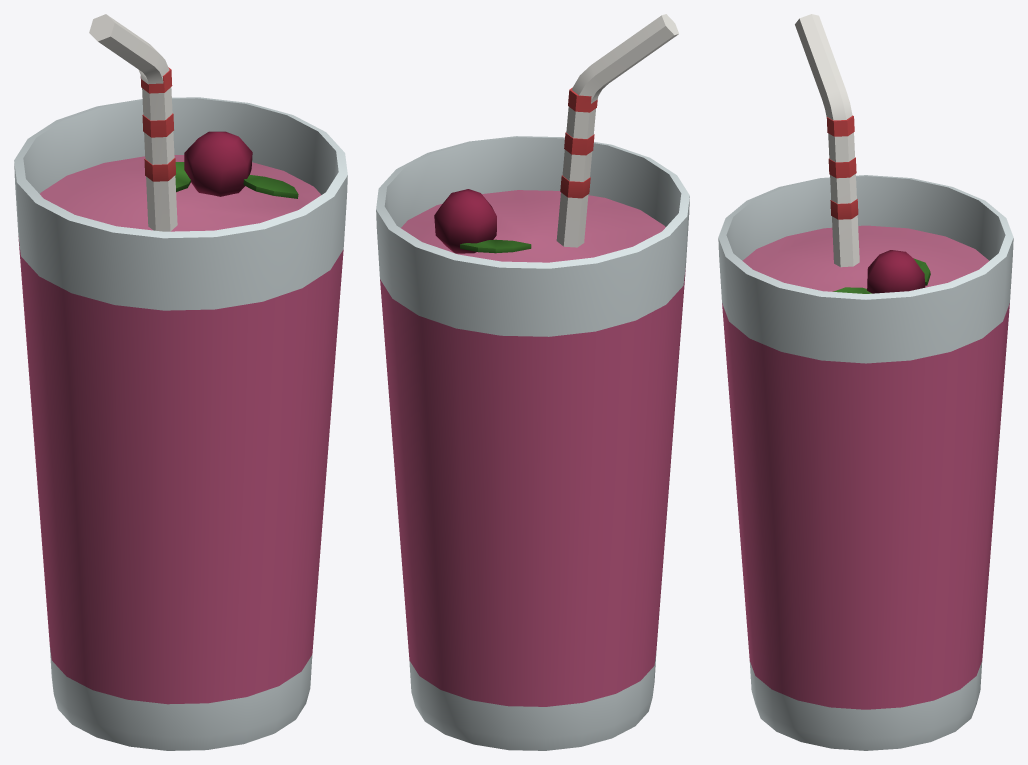
Rendered from smoothie.glb.
3 views of the same model, side by side, from view 1: azimuth 30°, elevation 25°; view 2: azimuth 150°, elevation 25°; view 3: azimuth 270°, elevation 25° (orthographic). The views are drawn at different scales.
Visible parts, largest first — view 1: smoothie; view 2: smoothie; view 3: smoothie.
Boxes of the visible parts, x1,y1,x2,y2 form: smoothie: (14, 14, 347, 750); smoothie: (376, 14, 689, 750); smoothie: (718, 14, 1013, 750).
Bounding box in the file's own units: 0.08 × 0.1927 × 0.08.
